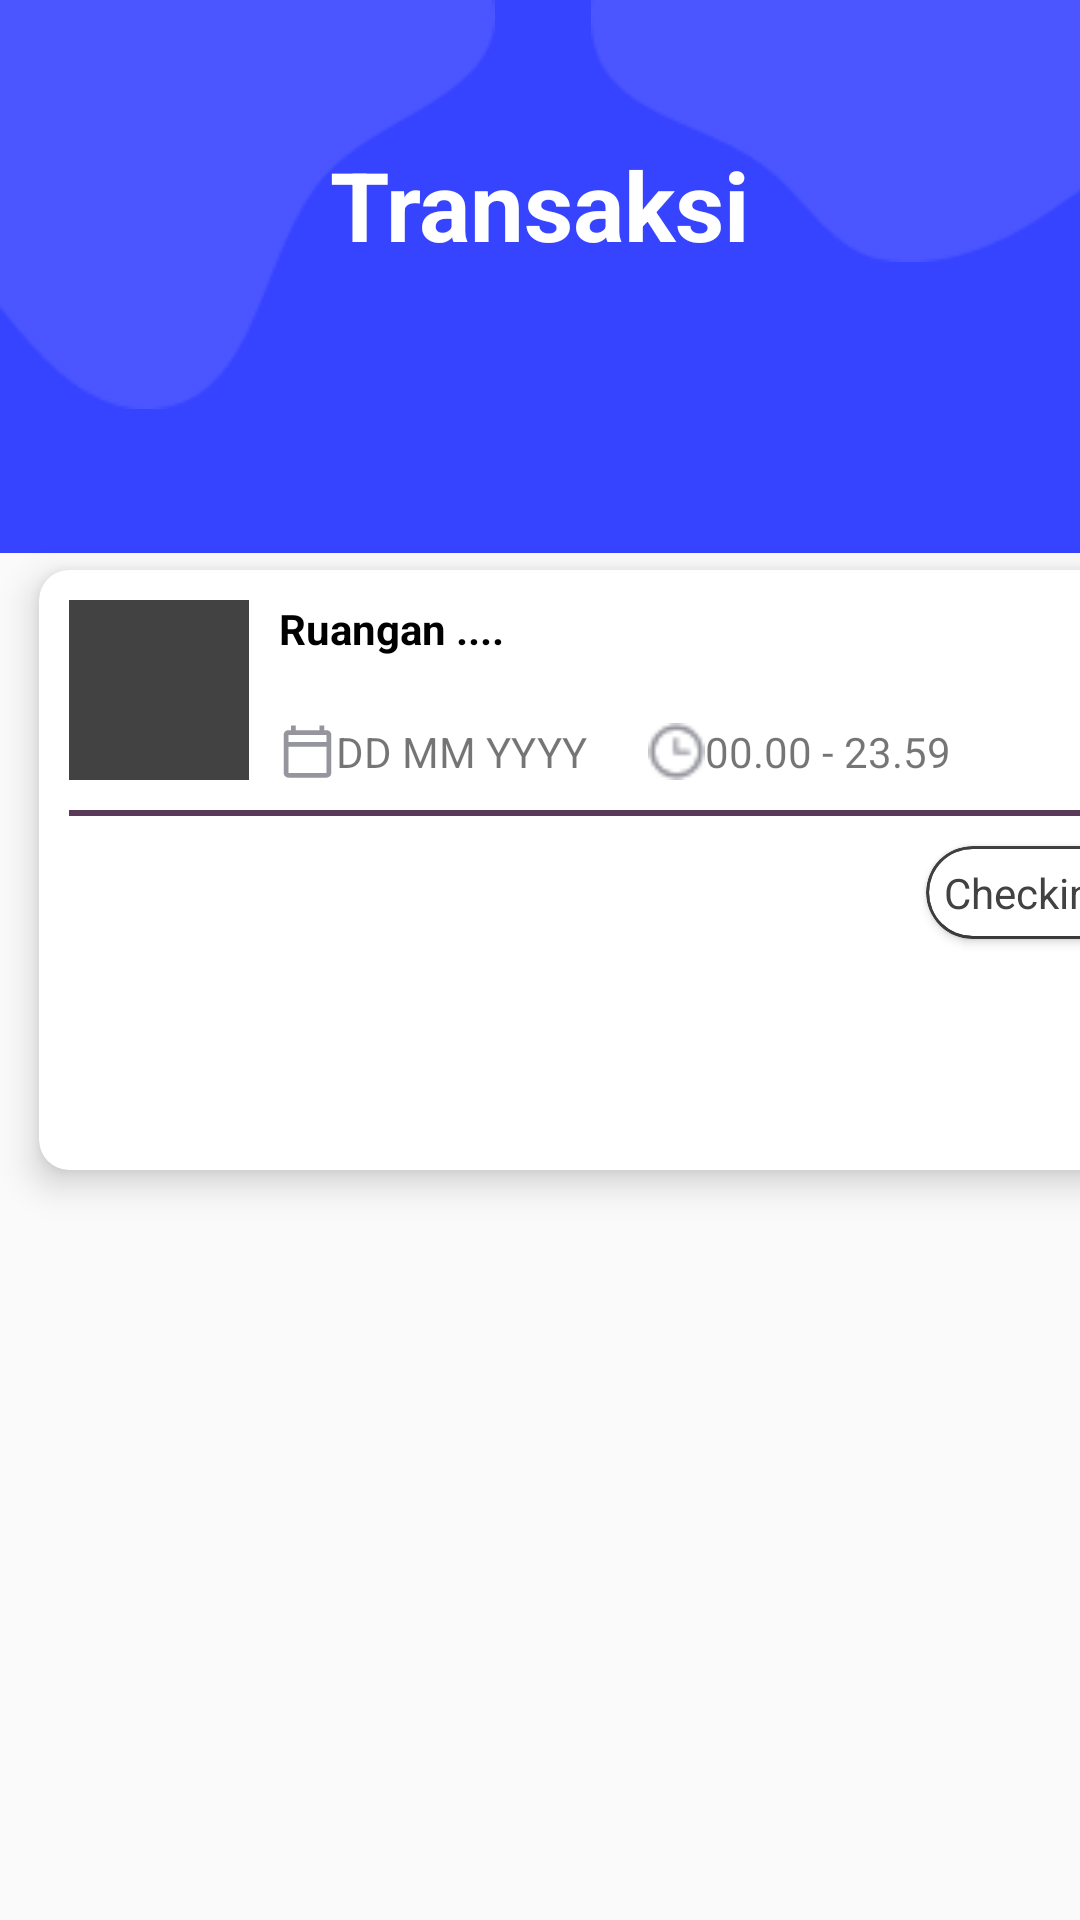

Icons on this 1080w x 1920h Android screen, each with its box as [x1,y1,x2,y2]:
calendar today: [283,725,332,778]
clock: [648,723,705,780]
